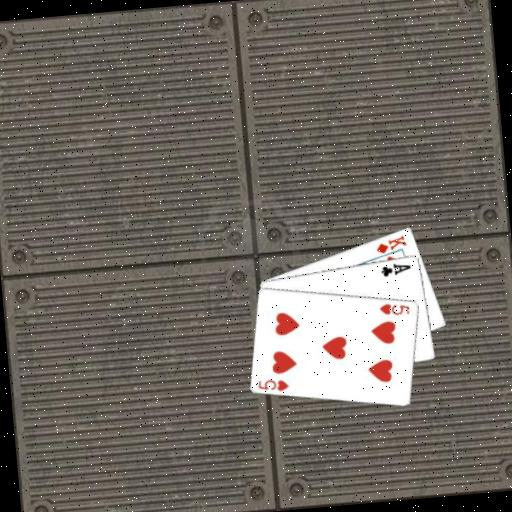5H: (255, 375, 291, 395), (377, 298, 412, 318)
AC: (378, 259, 413, 278)
KD: (372, 232, 409, 256)
